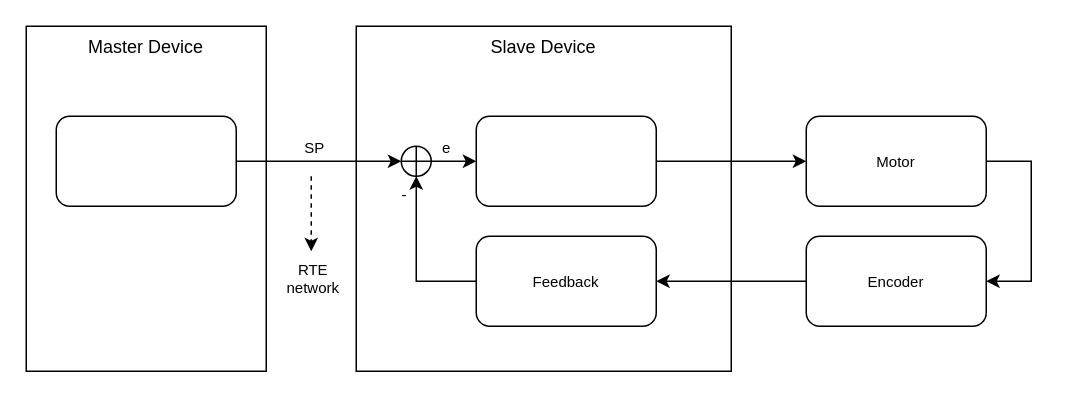
Image size: 1070x398. Some labels were removed from this diagram. Each missing label, with the centre of its shape:
"Control" goes at (x=565, y=160).
"Predefined Speed curve" goes at (x=145, y=160).
